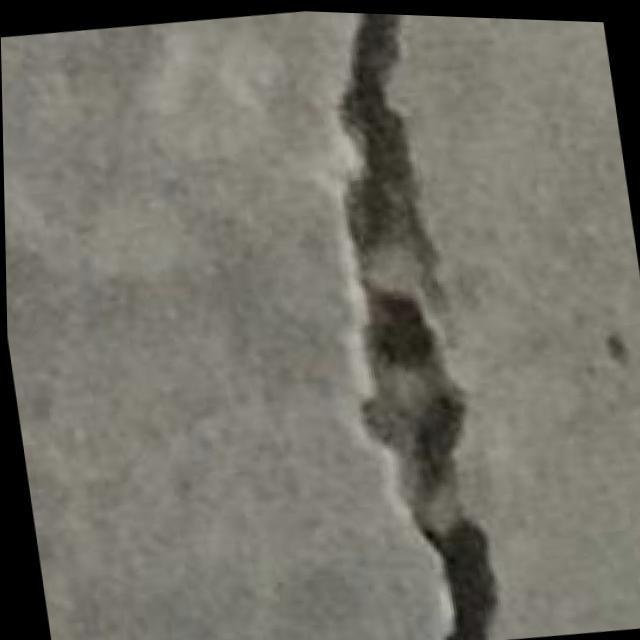Crack: (287, 8, 521, 640)
